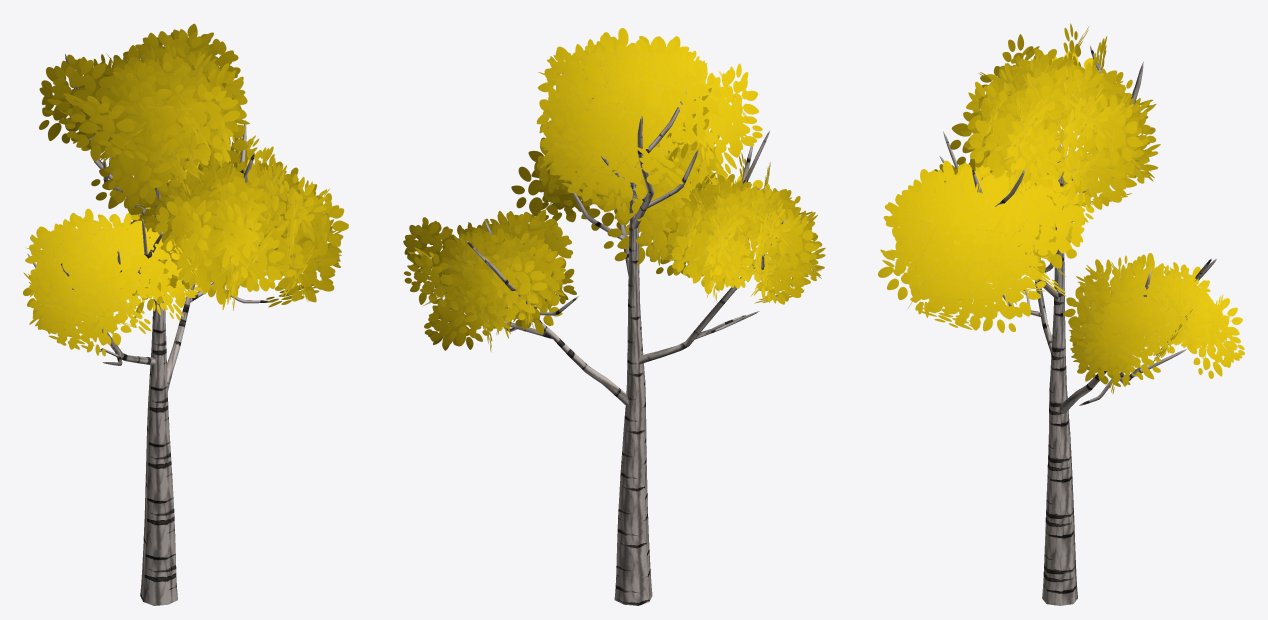
Rendered from prop_sn_birch_tree_5.glb.
3 views of the same model, side by side, from view 1: azimuth 30°, elevation 25°; view 2: azimuth 150°, elevation 25°; view 3: azimuth 270°, elevation 25° (orthographic). The views are drawn at different scales.
Visible parts, largest first — view 1: BirchTree_5; view 2: BirchTree_5; view 3: BirchTree_5.
Part boxes in pixels (x1,y1,x2,y2): BirchTree_5: (23,23,348,605); BirchTree_5: (403,28,825,605); BirchTree_5: (878,23,1244,605).
Bounding box in the file's own units: 3.58 × 5.52 × 3.51.
2 materials, 2 textured.
